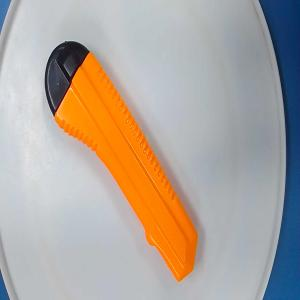estilete: (44, 40, 198, 283)
